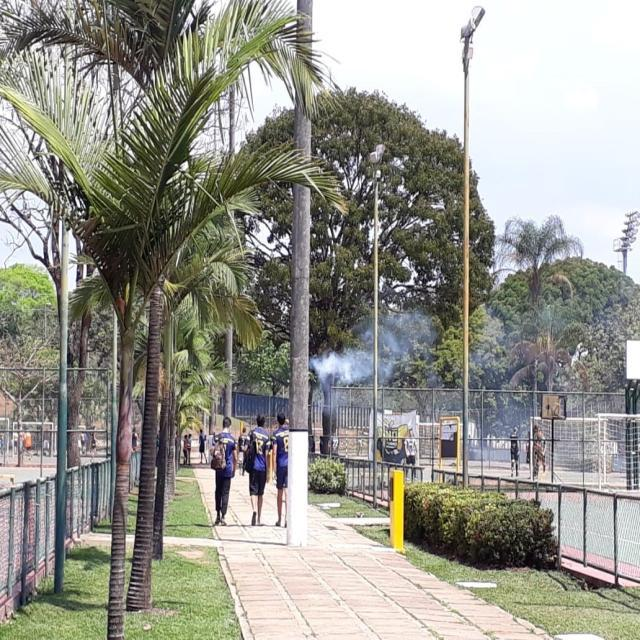Smoke: (312, 319, 437, 394)
